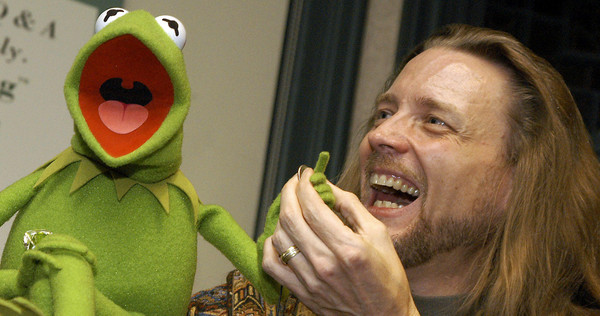kermit: (58, 5, 194, 179)
